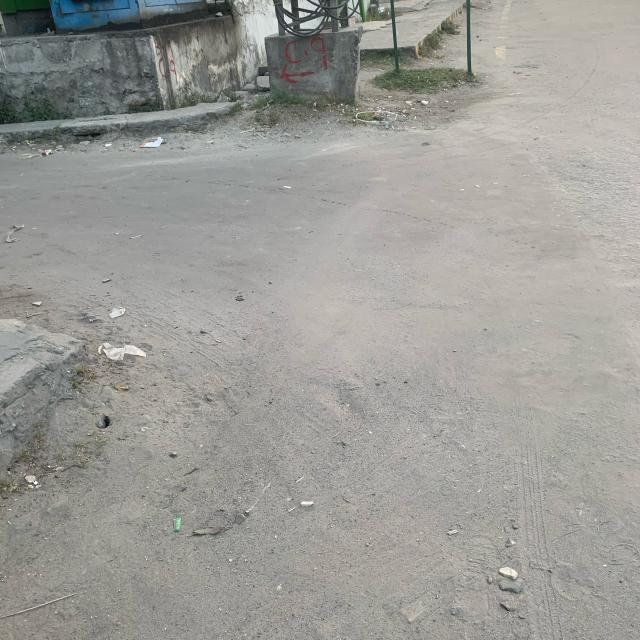Left-Turn: (54, 104, 516, 568)
